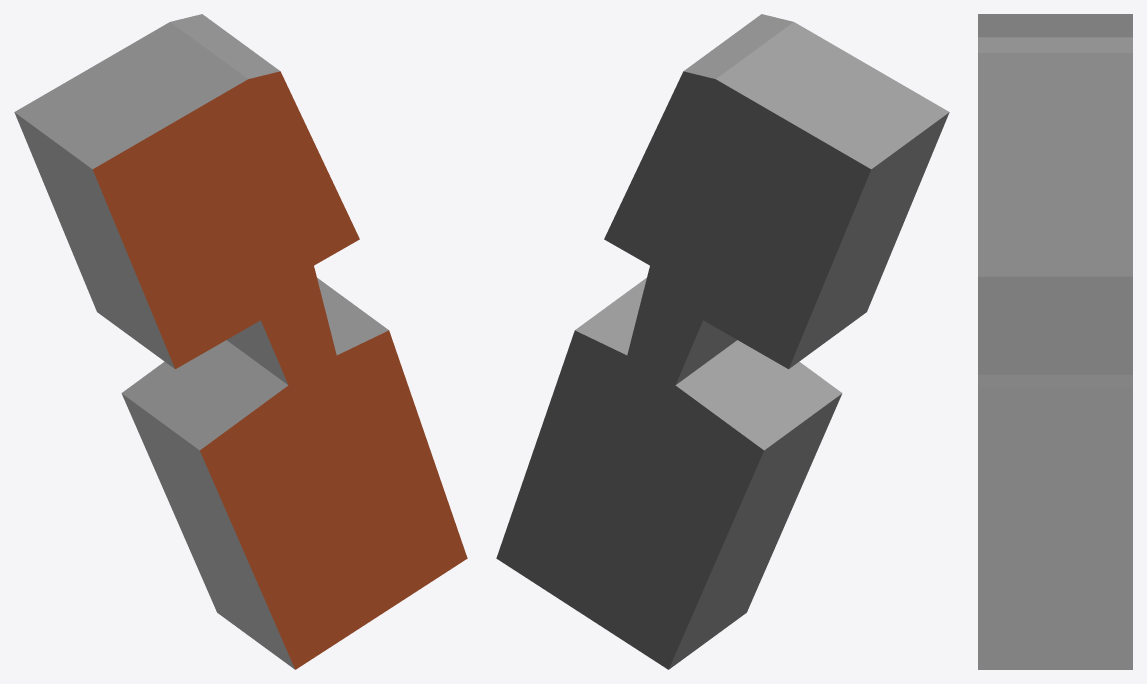
Rendered from construction_2861_assumed_A_Casa_h6m.obj.
3 renders of one model, left to right at view 1: azimuth 30°, elevation 25°; view 2: azimuth 150°, elevation 25°; view 3: azimuth 270°, elevation 25°, orthographic.
Visible parts, largest first — view 1: construction_2861_assumed_A_Casa; view 2: construction_2861_assumed_A_Casa; view 3: construction_2861_assumed_A_Casa.
Part boxes in pixels (<box>): construction_2861_assumed_A_Casa: <box>14,14,467,669</box>; construction_2861_assumed_A_Casa: <box>496,14,949,669</box>; construction_2861_assumed_A_Casa: <box>978,14,1132,669</box>.
Bounding box in the file's own units: 16.59 × 25.46 × 6.
